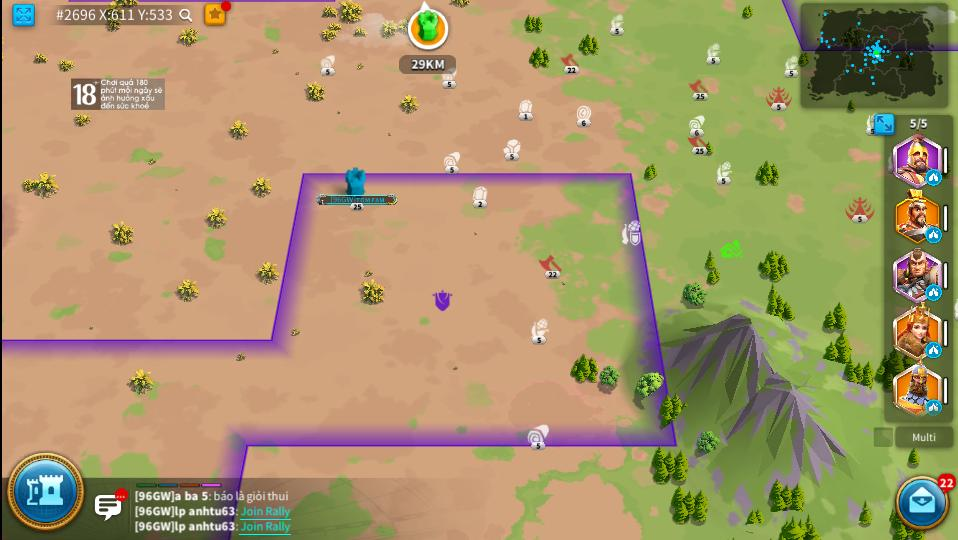gem-z-out: (518, 98, 533, 121), (473, 186, 487, 206)
march_idle: (925, 228, 942, 242), (926, 170, 940, 185), (927, 400, 941, 415), (926, 285, 940, 299), (928, 343, 940, 357)
